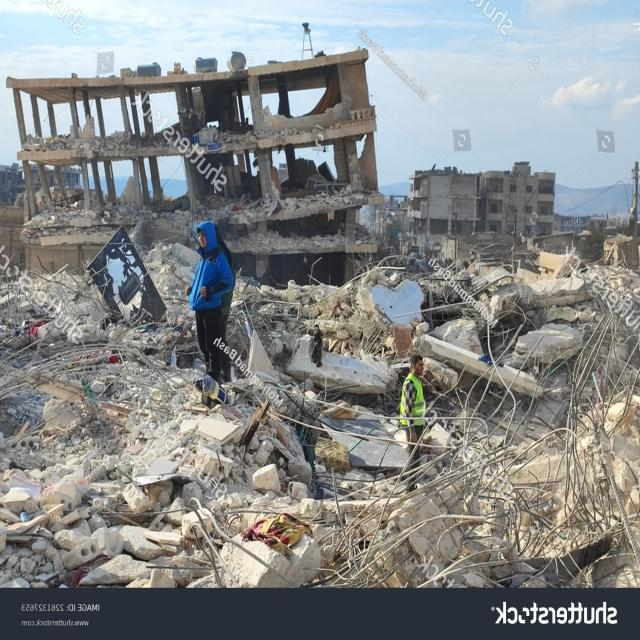Destroyed_building: (0, 0, 639, 585)
